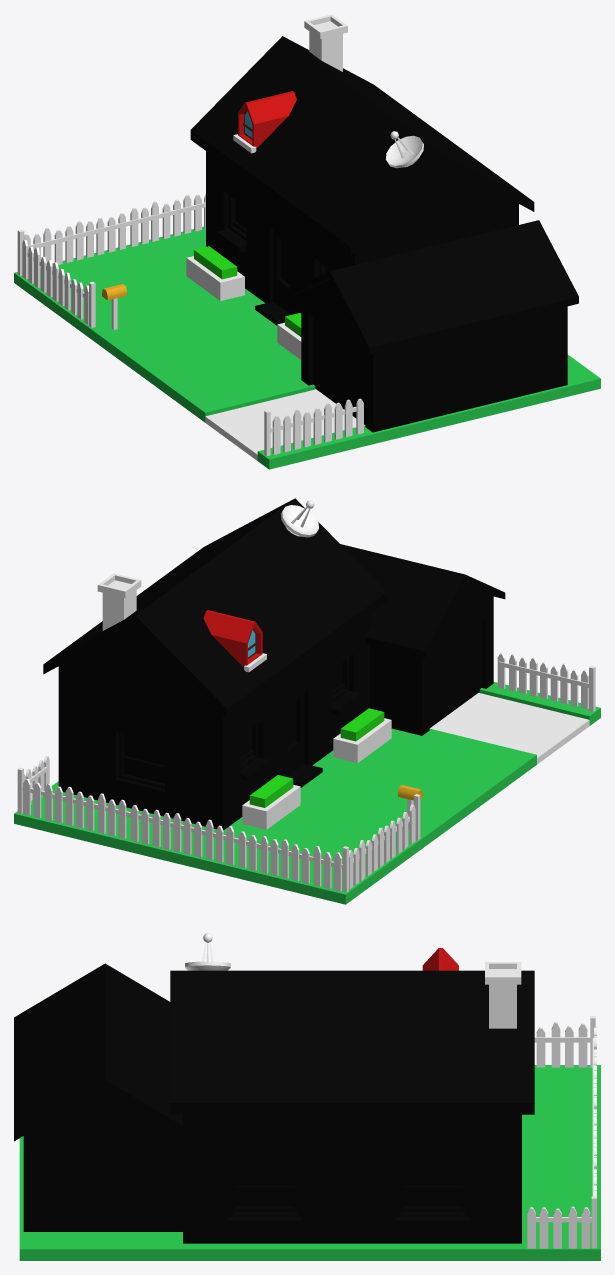
File: House_01.FBX
The picture shows the model from 3 angles, top to bottom: view 1: azimuth 30°, elevation 25°; view 2: azimuth 150°, elevation 25°; view 3: azimuth 270°, elevation 25°; orthographic projection. The views are drawn at different scales.
Visible parts, largest first — view 1: House_01; view 2: House_01; view 3: House_01.
Boxes of the visible parts, left/top/right/bottom form: House_01: left=14, top=14, right=600, bottom=469; House_01: left=14, top=498, right=600, bottom=904; House_01: left=14, top=933, right=600, bottom=1260.
Size of the model in its own units: 17.2 by 11.24 by 23.14.
